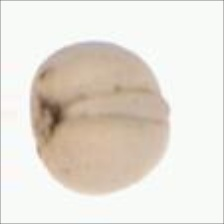L5: (63, 85, 173, 126), (23, 79, 67, 160)
L6: (24, 38, 173, 200)
